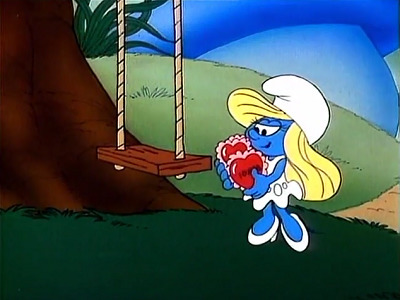smurf: (216, 73, 339, 251)
